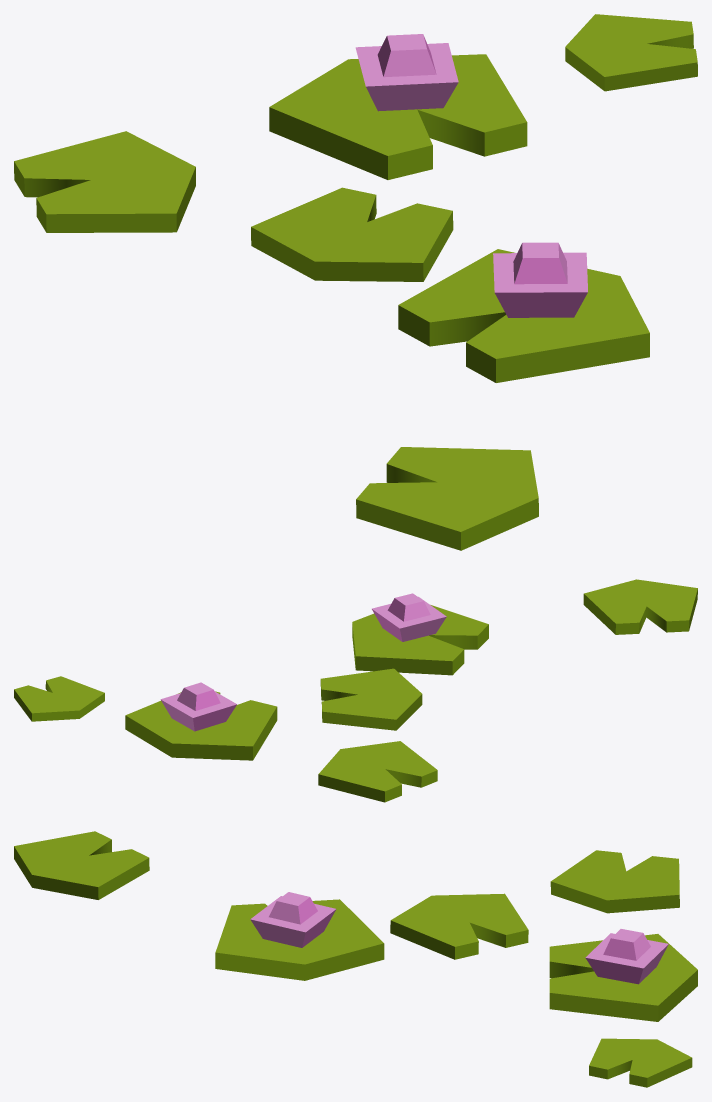
Rendered from ST_Prop_LillyPad_02.fbx.
The picture shows the model from 3 angles, top to bottom: view 1: azimuth 30°, elevation 25°; view 2: azimuth 150°, elevation 25°; view 3: azimuth 270°, elevation 25°; orthographic projection. The views are drawn at different scales.
Parts seen in each view (by area): view 1: ST_Prop_LillyPad_02; view 2: ST_Prop_LillyPad_02; view 3: ST_Prop_LillyPad_02.
Boxes of the visible parts, bbox=[...] form: ST_Prop_LillyPad_02: bbox=[14, 14, 697, 550]; ST_Prop_LillyPad_02: bbox=[14, 579, 697, 802]; ST_Prop_LillyPad_02: bbox=[14, 831, 697, 1087].
Size of the model in its own units: 4 by 0.4189 by 4.7.
